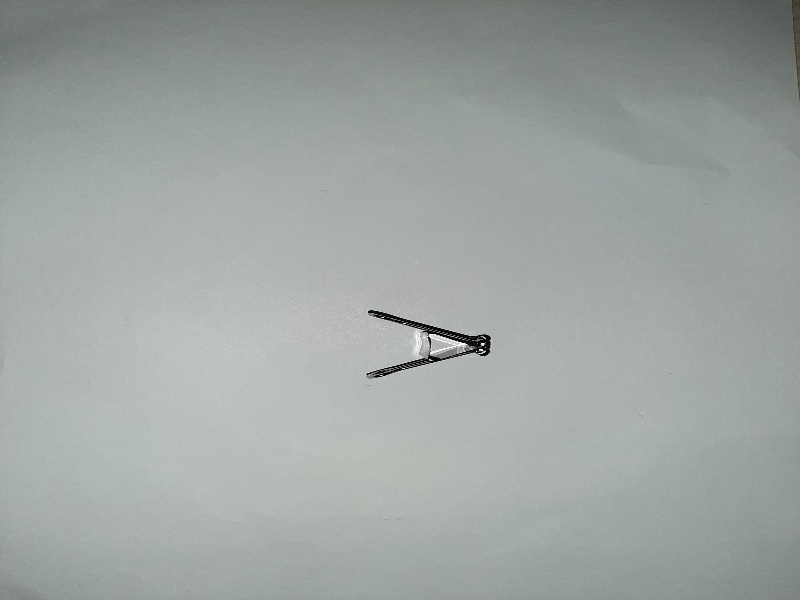Big Paperclip: (365, 303, 495, 382)
